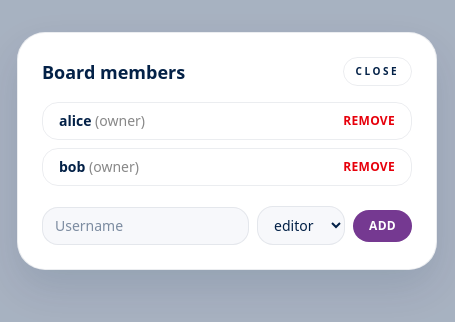
Test: BoardMembersDialog › shows an error when the backend rejects removing the last owner
Check: the text "bob" is shown, box left=59, top=157, right=85, bottom=176
Click the button "Remove" in the row of "alice" at (369, 121), box left=343, top=113, right=395, bottom=129
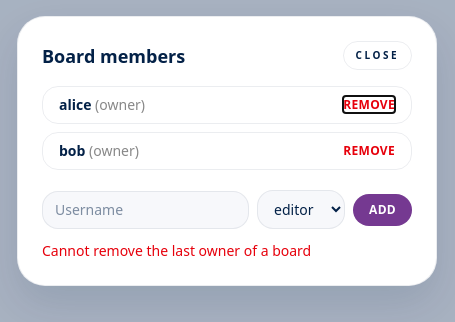
Check: the text "Cannot remove the last owner of a board" is shown, box left=42, top=241, right=311, bottom=260
